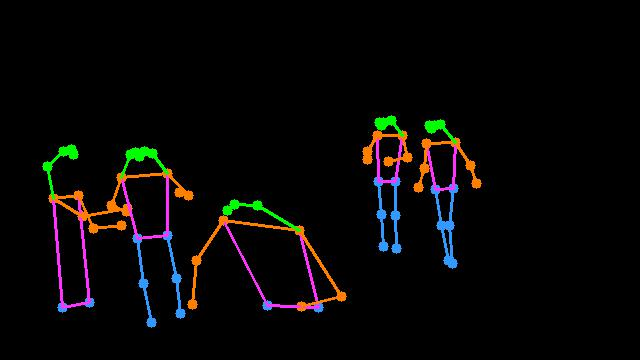normal: (358, 108, 486, 274), (106, 139, 198, 337)
